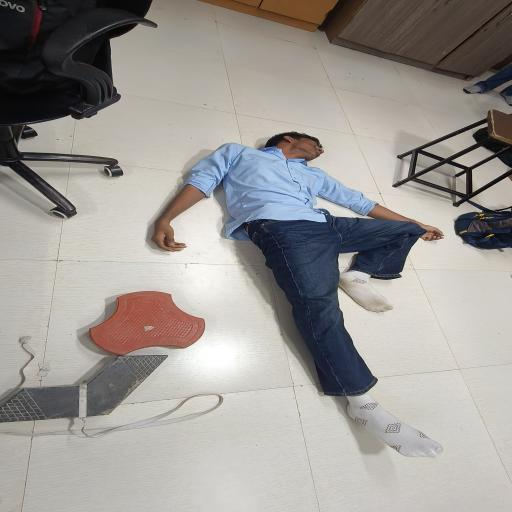survivor: (150, 130, 447, 460)
